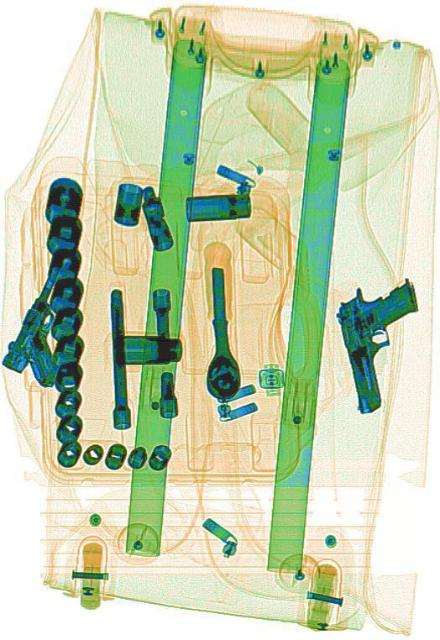Gun: (331, 266, 434, 414), (0, 252, 98, 396)
